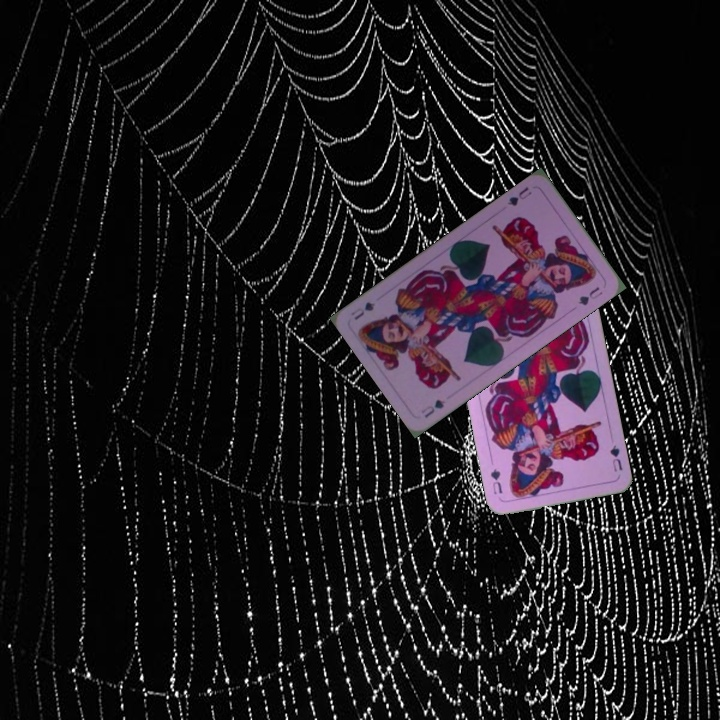GU: (503, 182, 534, 209), (417, 395, 448, 421), (606, 441, 625, 474)
